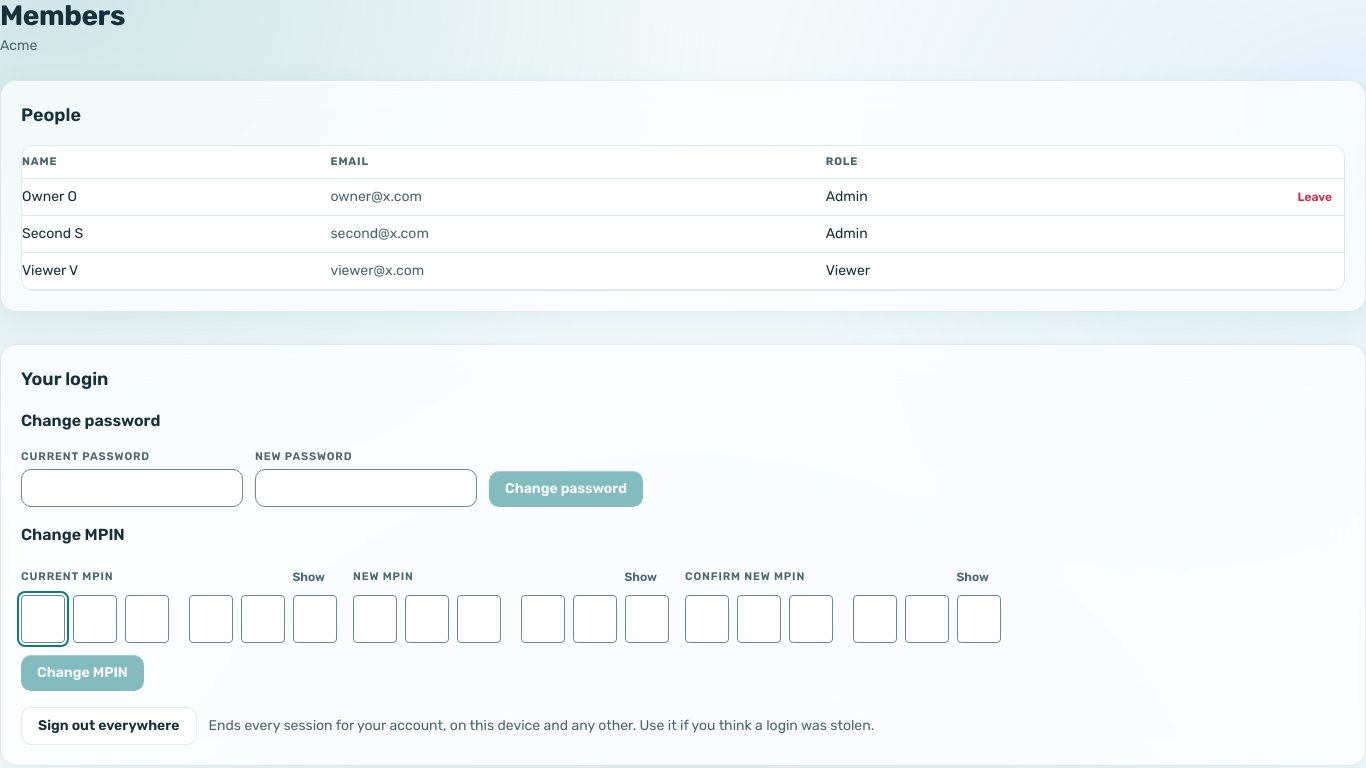
Test: every member can change their MPIN with the current one
Check: the heading "Your login" is shown, box [21,365,108,393]
Step 1. Type keys "123456"
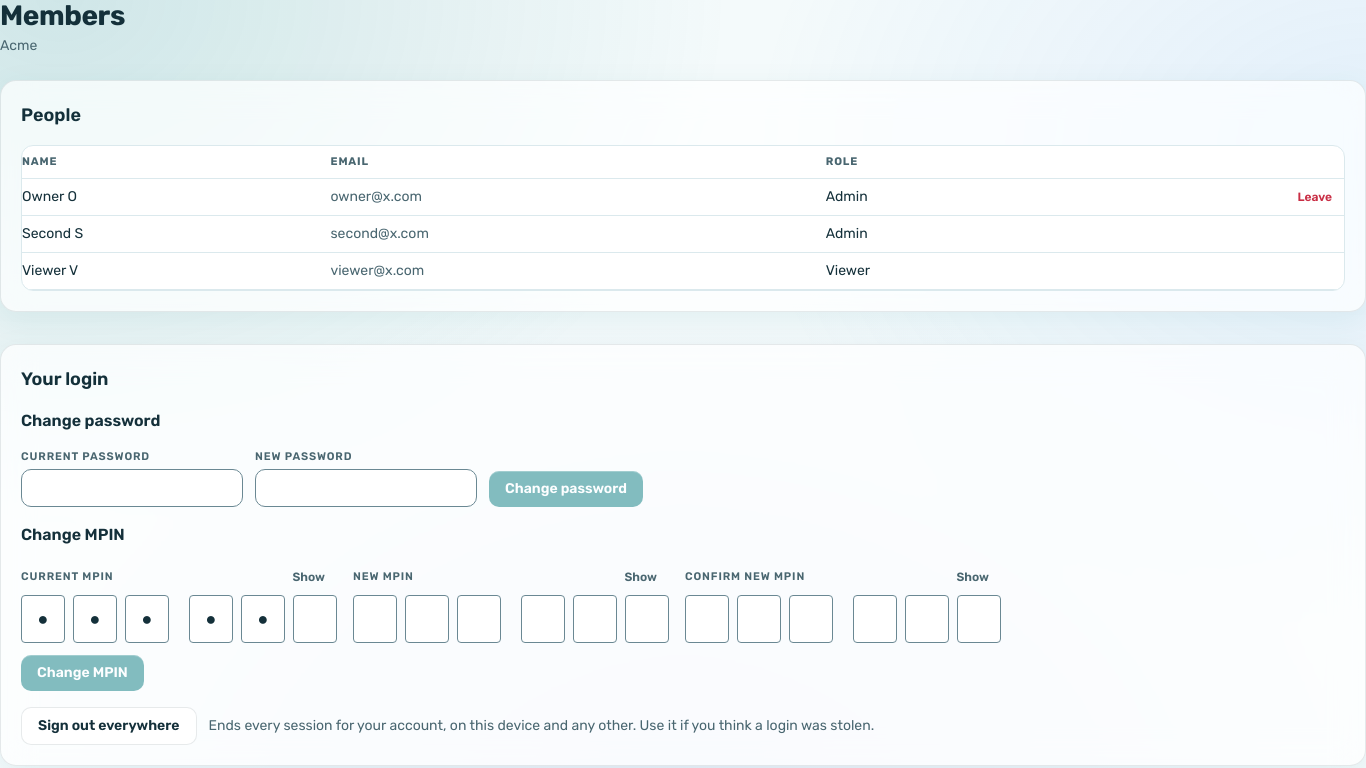
Step 2. Type "6" into the password field named "Current MPIN digit 6 of 6" → (315, 619), box [293,595,337,643]
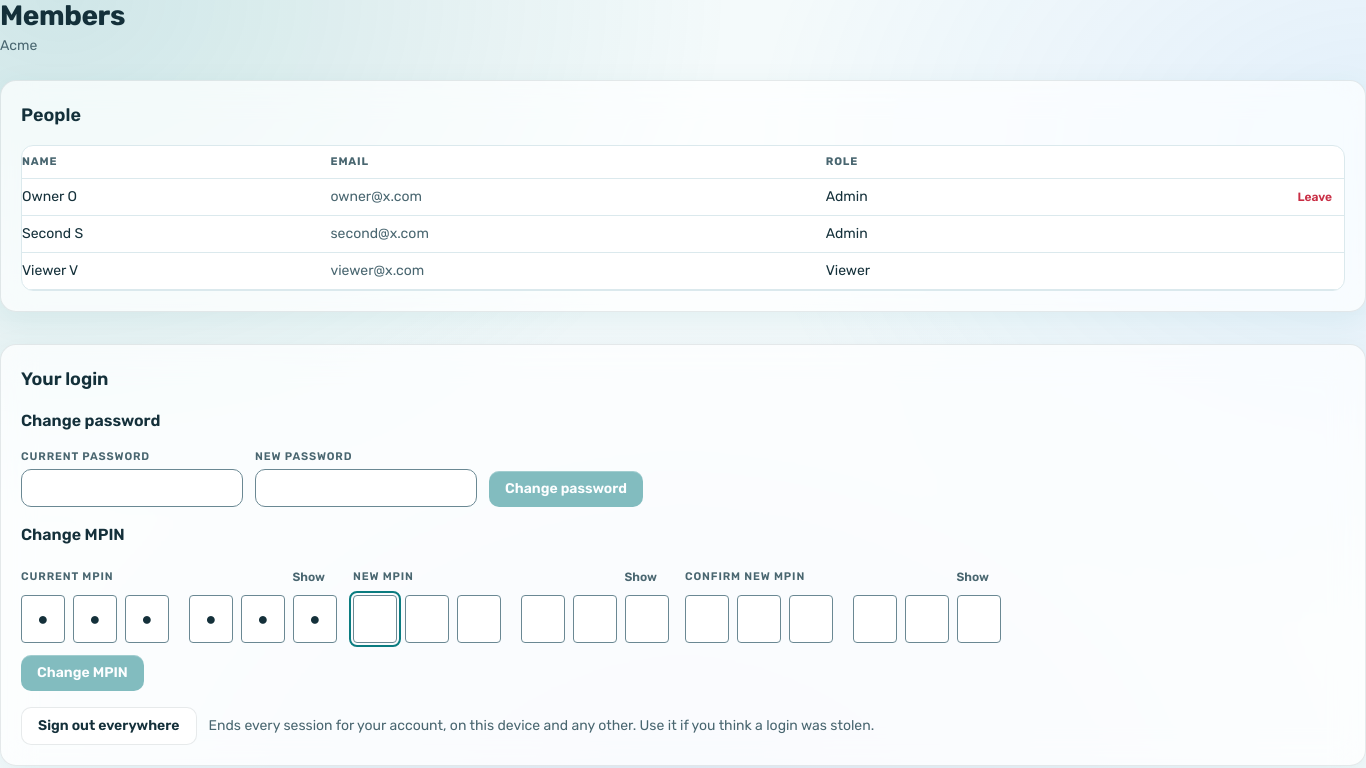
Step 3. Type keys "654321"
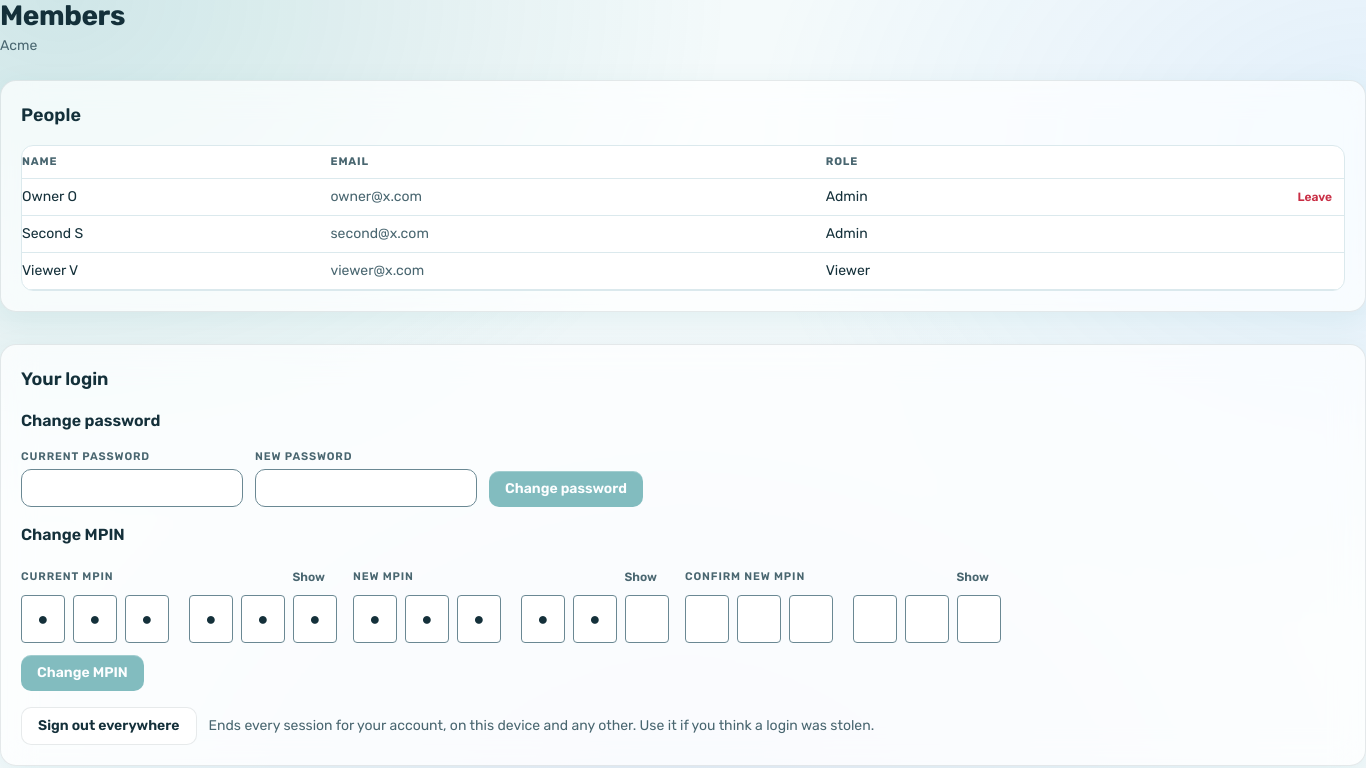
Step 4. Type "1" into the password field named "New MPIN digit 6 of 6" → (647, 619), box [625,595,669,643]
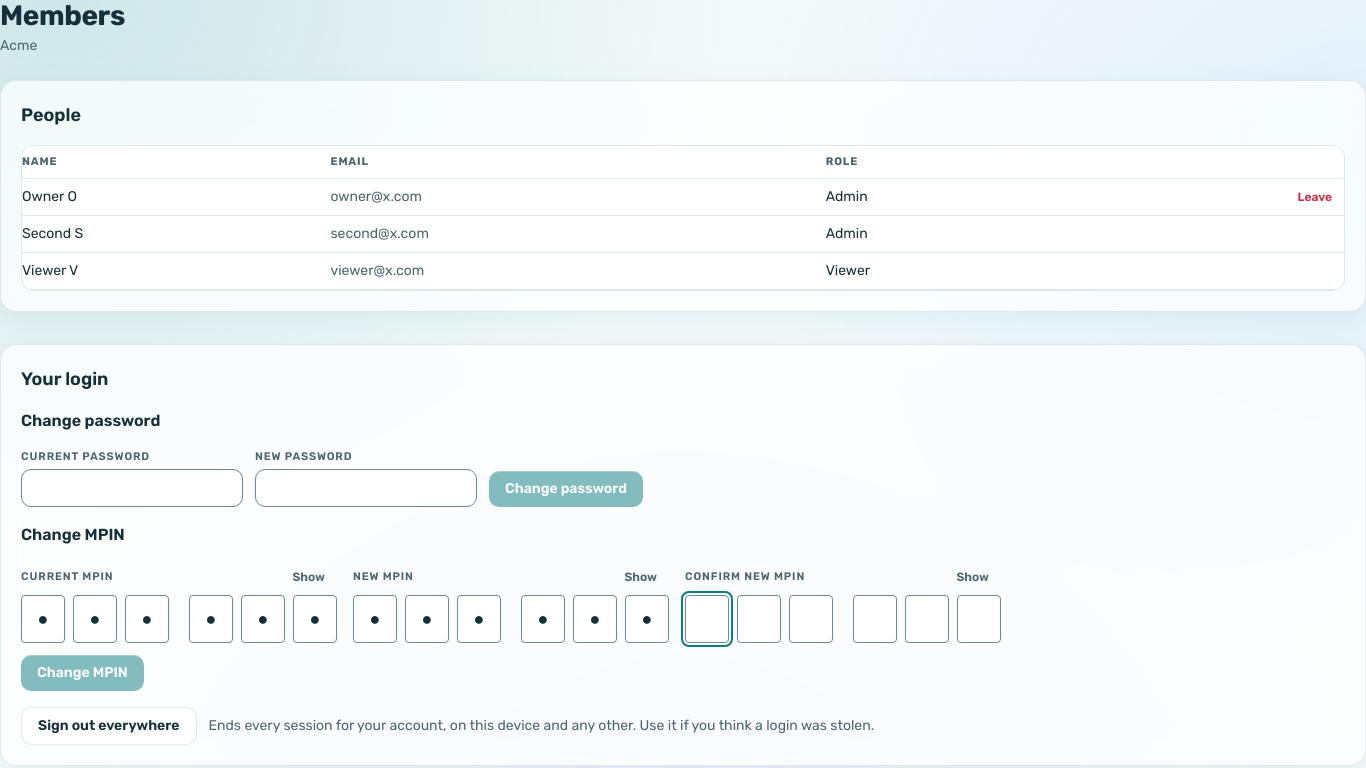
Step 5. Type keys "654321"
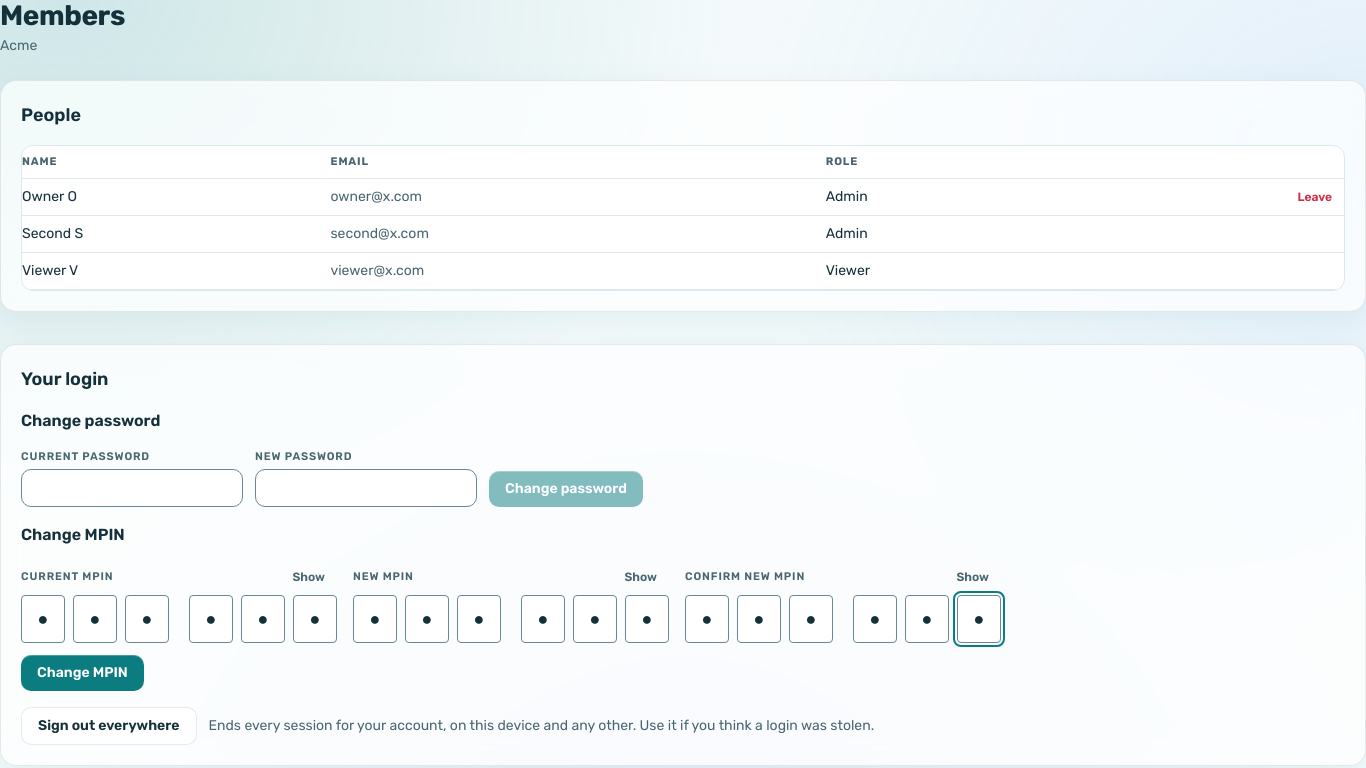
Step 6. Click the button "Change MPIN" → (82, 673), box [21,655,144,691]
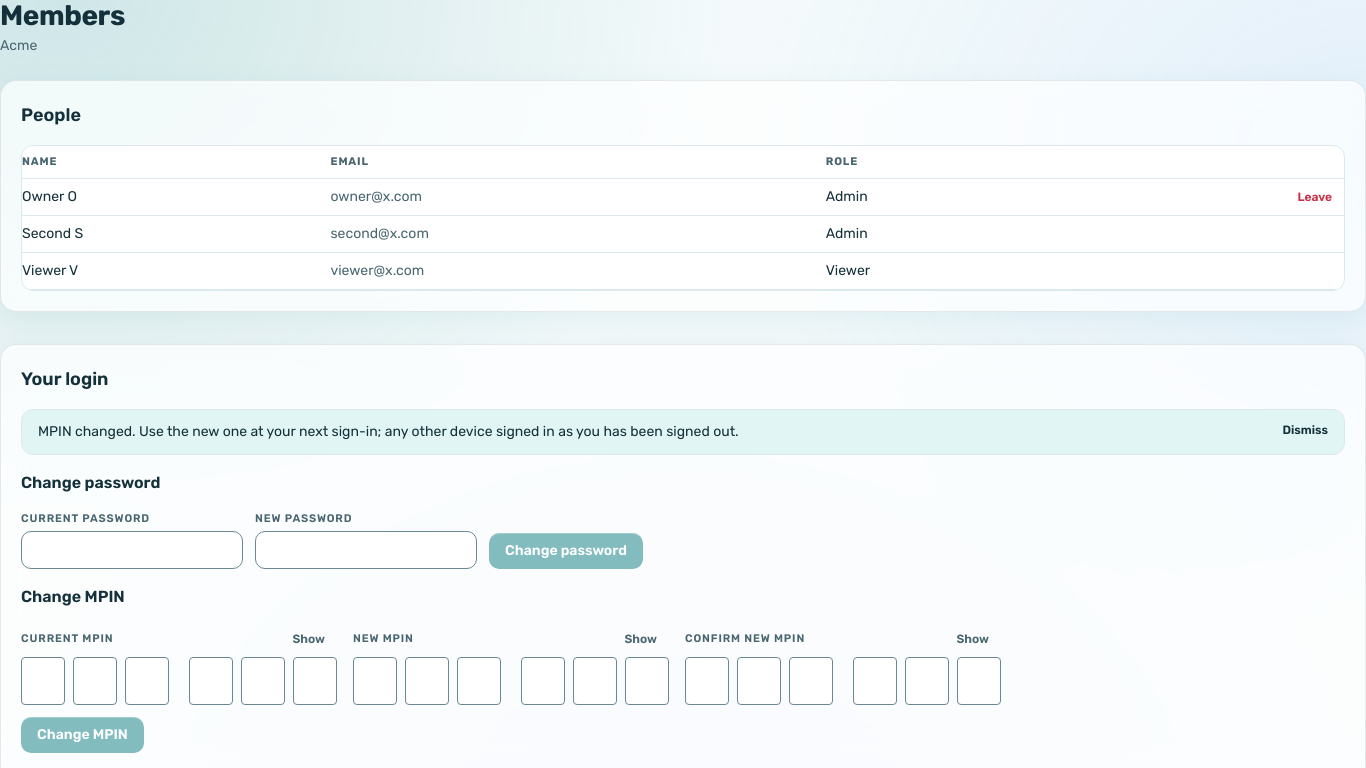
Check: the text "MPIN changed" is shown, box [38,423,739,440]
